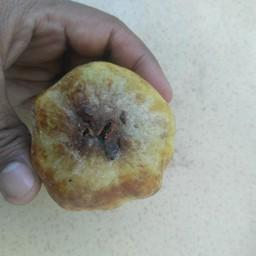Bad_guava: (28, 55, 177, 215)
